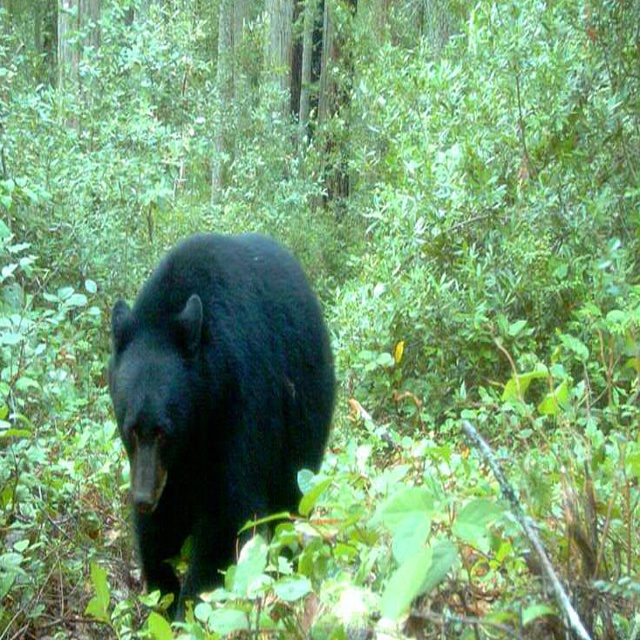Bear: (107, 228, 335, 629)
